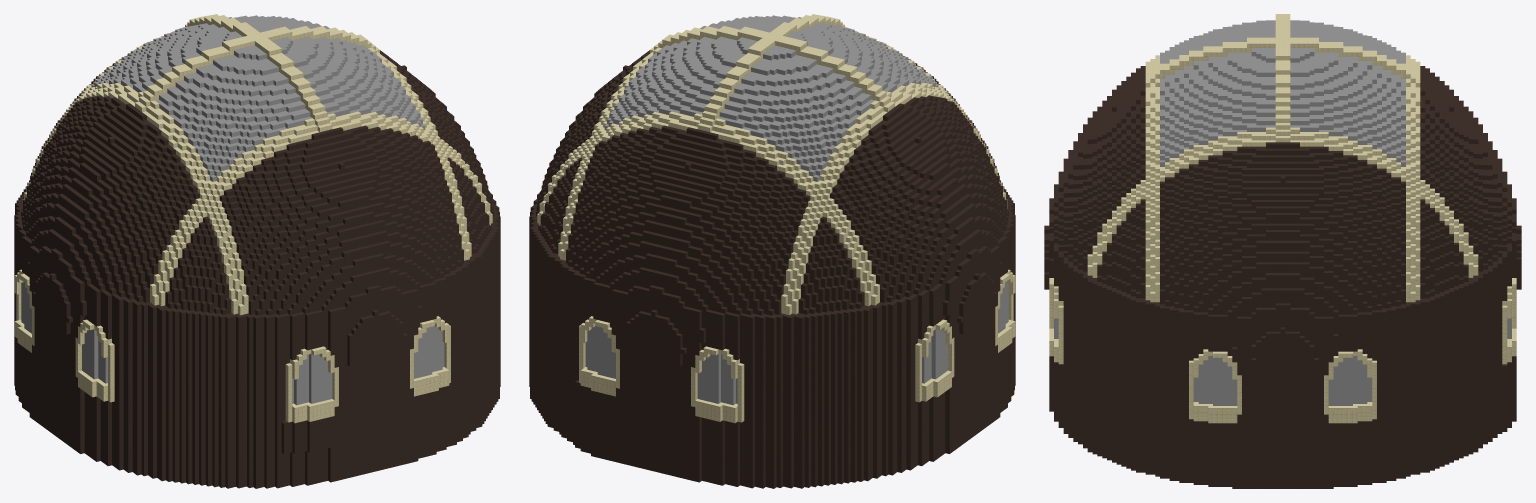
File: minecraft.obj
The picture shows the model from 3 angles, left to right: view 1: azimuth 30°, elevation 25°; view 2: azimuth 150°, elevation 25°; view 3: azimuth 270°, elevation 25°; orthographic projection.
Bounding box in the file's own units: 99 × 80 × 99.
